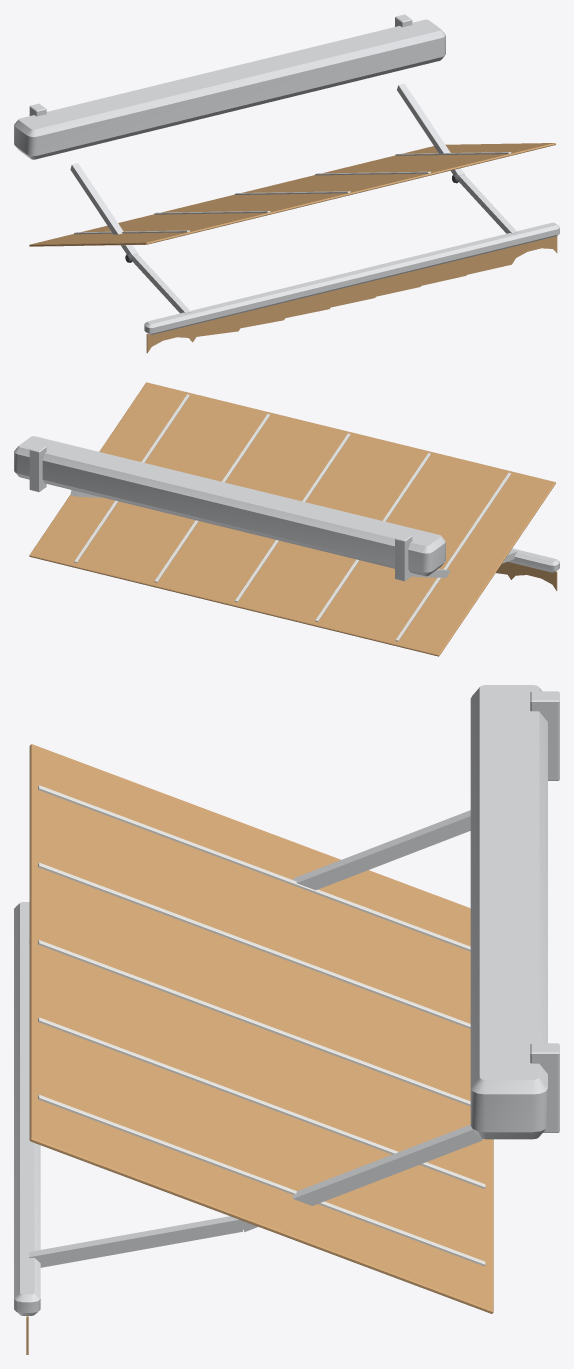
The model's file is simplified.glb.
3 views of the same model, one above another, from view 1: azimuth 30°, elevation 25°; view 2: azimuth 150°, elevation 25°; view 3: azimuth 270°, elevation 25° (orthographic). The views are drawn at different scales.
Visible parts, largest first — view 1: awning-retractable; view 2: awning-retractable; view 3: awning-retractable.
Part boxes in pixels (x1,y1,x2,y2): awning-retractable: (14,14,559,353); awning-retractable: (14,382,559,656); awning-retractable: (14,685,559,1354).
Bounding box in the file's own units: 3.2 × 1.06 × 1.84.
